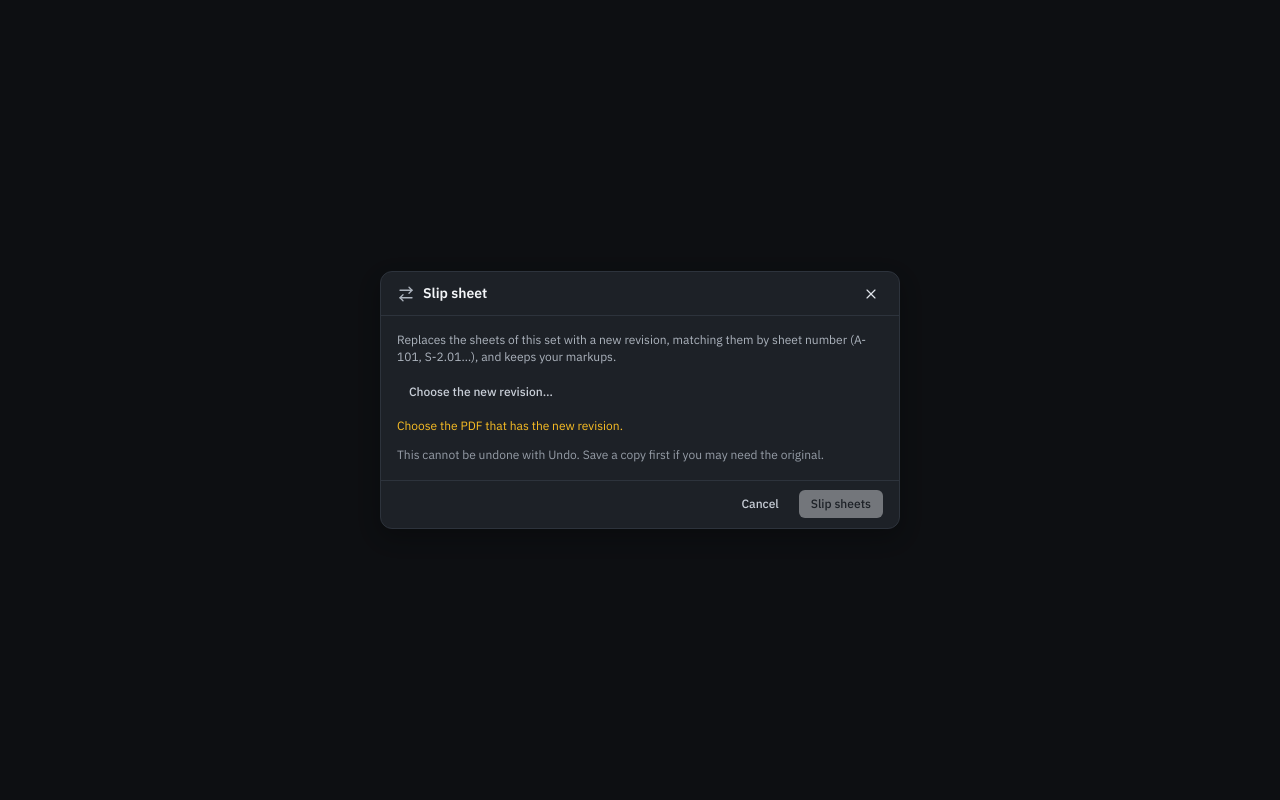
Test: Diálogo Slip Sheet (ADR-0129) › se puede cambiar un emparejamiento a mano o dejar una página como está; dos páginas con la misma lámina nueva no se aceptan
The width and height of the screenshot is (1280, 800).
Click the button with test id "slip-choose". click: (481, 392)
box: [397, 378, 565, 406]
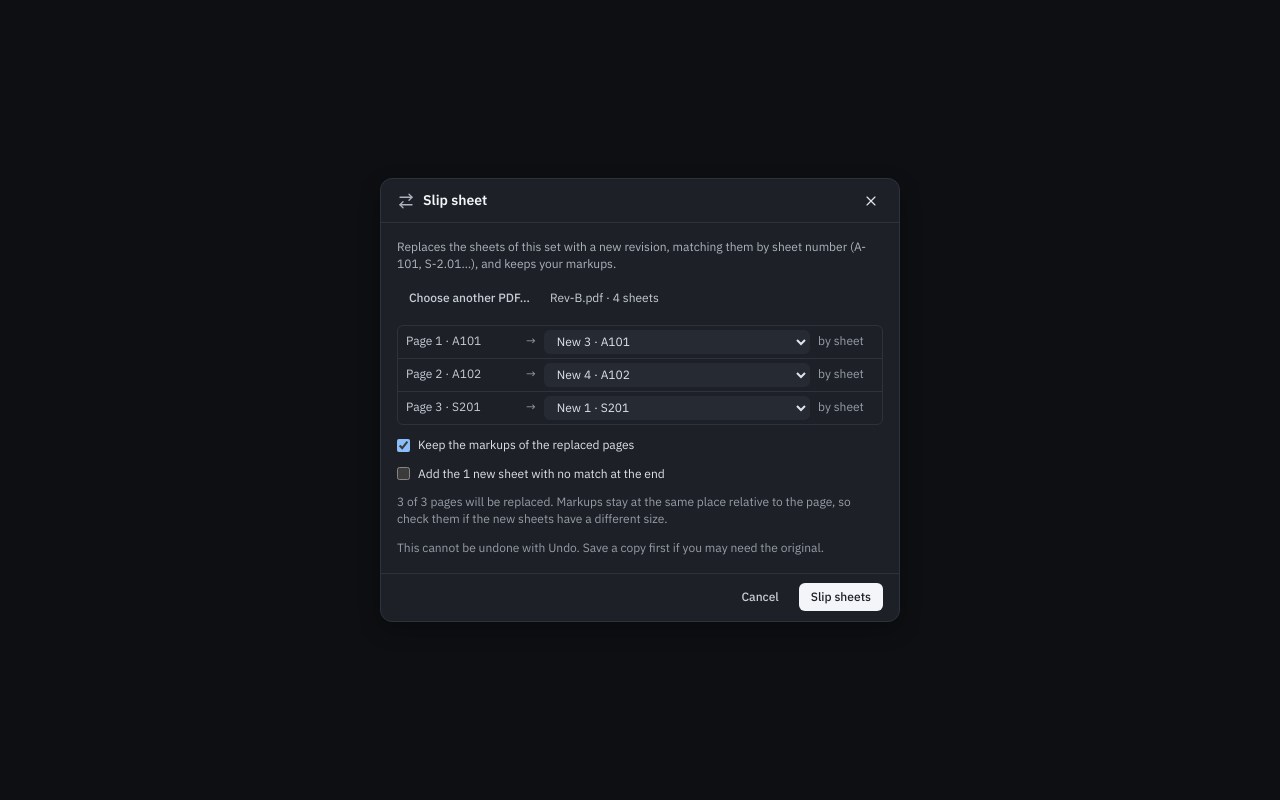
Now the list with test id "slip-rows" is shown, box [397, 325, 883, 425]
Select "Keep this page" in the dropdown with test id "slip-select-2". click: (677, 408)
box: [544, 396, 810, 420]
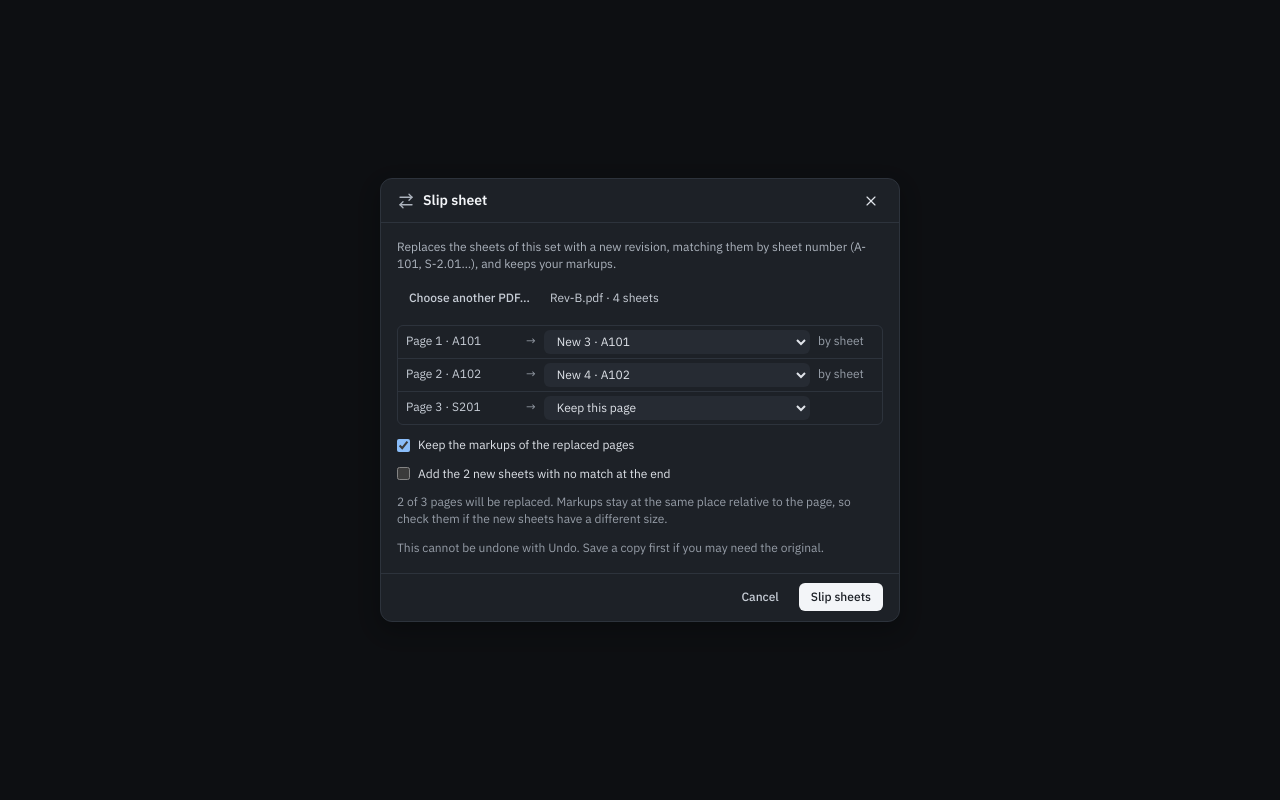
Now the text with test id "slip-summary" shows "2 of 3 pages will be replaced", box [397, 494, 883, 528]
Select "New 3 · A101" in the dropdown with test id "slip-select-2". click: (677, 408)
box: [544, 396, 810, 420]
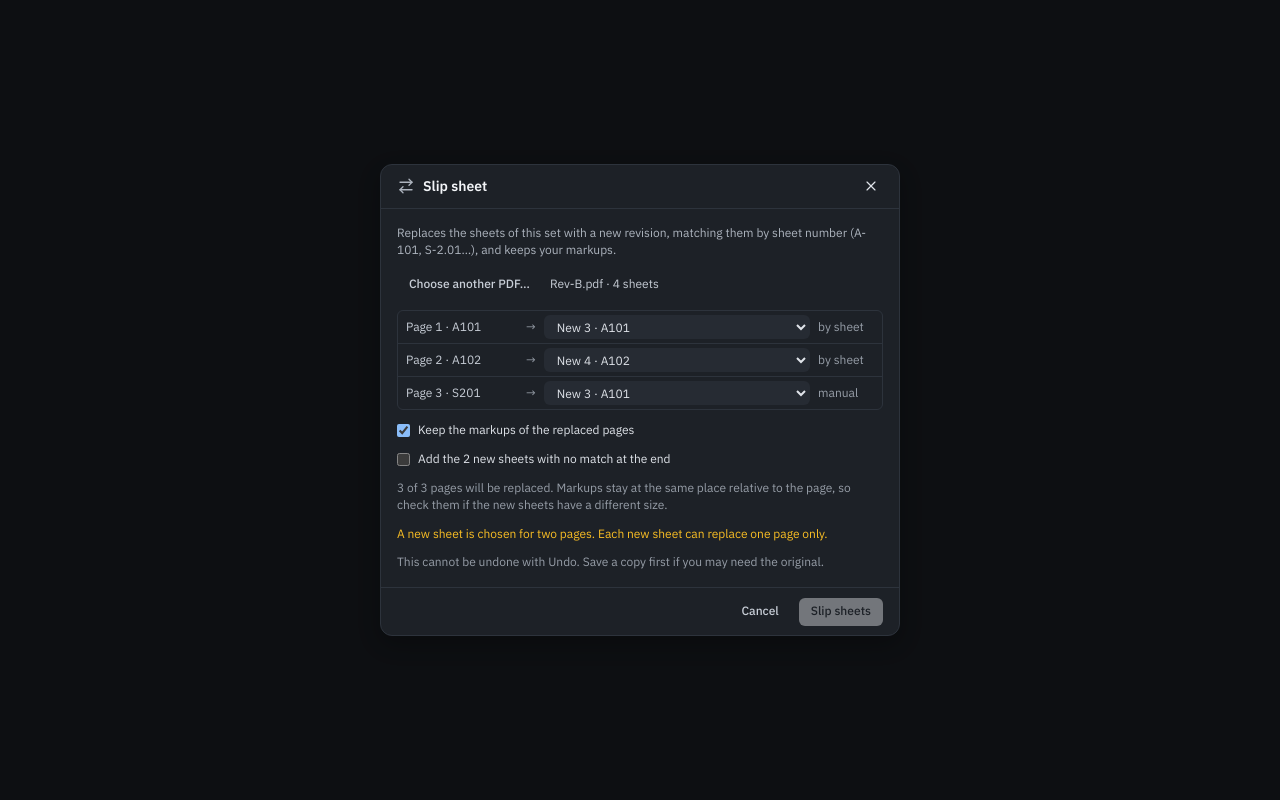
Now the text with test id "slip-by-2" reads "manual", box [818, 385, 858, 400]
Now the text with test id "slip-problem" shows "two pages", box [397, 526, 828, 541]
Now the button with test id "slip-apply" is disabled, box [799, 598, 883, 626]
